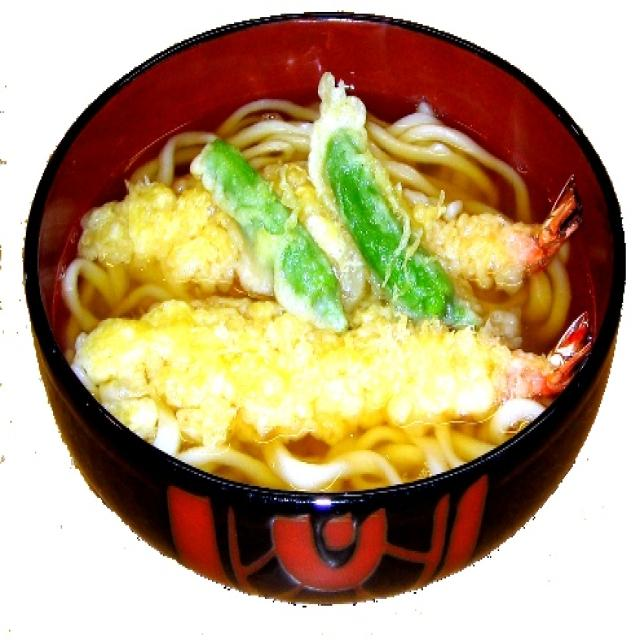面条主食: (56, 78, 588, 494)
